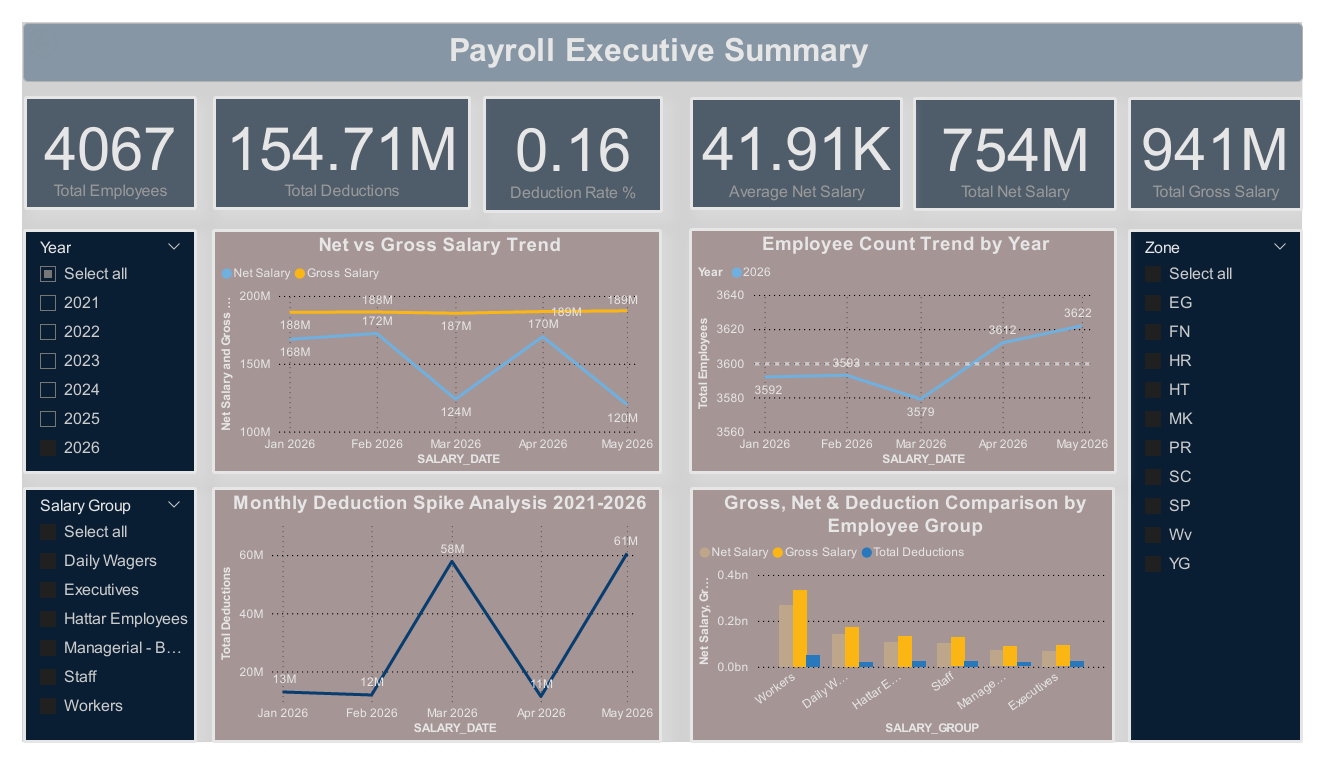

What the dashboard file says about the page in this screenshot:
{"tool":"powerbi","page":{"name":"Executive Summary","canvas":[1280,720],"ordinal":0},"visuals":[{"type":"card","fields":{"Values":["AI_PAYROLL_DATA.Total Net Salary"]},"box":[890,73.8,203.8,113.8],"z":0},{"type":"card","fields":{"Values":["AI_PAYROLL_DATA.Average Net Salary"]},"box":[666.9,74.1,212.7,112.5],"z":1000},{"type":"card","fields":{"Values":["AI_PAYROLL_DATA.Deduction Rate %"]},"box":[460,73.3,180,116.7],"z":2000},{"type":"lineChart","title":"Net vs Gross Salary Trend","fields":{"Category":["AI_PAYROLL_DATA.SALARY_DATE"],"Y":["Sum(AI_PAYROLL_DATA.NET_SALARY)","Sum(AI_PAYROLL_DATA.GROSS_SALARY)"]},"box":[189.4,205.8,450.1,245.6],"z":3000},{"type":"slicer","fields":{"Values":["DateTable.Year"]},"box":[0,205.8,174.3,245.6],"z":4000},{"type":"slicer","fields":{"Values":["AI_PAYROLL_DATA.SALARY_GROUP"]},"box":[0,463.8,174.3,256.6],"z":5000},{"type":"slicer","fields":{"Values":["AI_PAYROLL_DATA.ZONE"]},"box":[1105,206.2,175,513.8],"z":6000},{"type":"actionButton","box":[0,0,100,40],"z":7000},{"type":"clusteredColumnChart","title":"Gross, Net & Deduction Comparison by Employee Group","fields":{"Category":["AI_PAYROLL_DATA.SALARY_GROUP"],"Y":["AI_PAYROLL_DATA.Total Net Salary","AI_PAYROLL_DATA.Total Gross Salary","AI_PAYROLL_DATA.Total Deductions"]},"box":[666.9,463.8,425.4,256.6],"z":8000},{"type":"textbox","box":[0,0,1280.3,59],"z":9000},{"type":"card","fields":{"Values":["AI_PAYROLL_DATA.Total Gross Salary"]},"box":[1104.6,74.1,175.6,113.9],"z":10000},{"type":"card","fields":{"Values":["AI_PAYROLL_DATA.Total Employees"]},"box":[1.4,72.7,172.9,113.9],"z":11000},{"type":"card","fields":{"Values":["AI_PAYROLL_DATA.Total Deductions"]},"box":[190,73.3,258.3,113.3],"z":12000},{"type":"lineChart","title":"Monthly Deduction Spike Analysis 2021-2026","fields":{"Category":["AI_PAYROLL_DATA.SALARY_DATE"],"Y":["AI_PAYROLL_DATA.Total Deductions"]},"box":[189.4,463.8,450.1,256.6],"z":13000},{"type":"lineChart","title":"Employee Count Trend by Year","fields":{"Category":["AI_PAYROLL_DATA.SALARY_DATE"],"Y":["AI_PAYROLL_DATA.Total Employees"],"Series":["DateTable.Year"]},"box":[666.4,205.4,428,245.8],"z":14000}]}

Visuals, with their boxes in screenshot pixels (x1, y1, x2, y2), scaled from the page's 1280x720 canvas onto the 1326x766 screenshot:
card - AI_PAYROLL_DATA.Total Net Salary: (922, 79, 1133, 200)
card - AI_PAYROLL_DATA.Average Net Salary: (691, 79, 911, 199)
card - AI_PAYROLL_DATA.Deduction Rate %: (477, 78, 663, 202)
"Net vs Gross Salary Trend" lineChart: (196, 219, 662, 480)
slicer - DateTable.Year: (0, 219, 181, 480)
slicer - AI_PAYROLL_DATA.SALARY_GROUP: (0, 493, 181, 765)
slicer - AI_PAYROLL_DATA.ZONE: (1145, 219, 1325, 765)
actionButton: (0, 0, 104, 43)
"Gross, Net & Deduction Comparison by Employee Group" clusteredColumnChart: (691, 493, 1132, 765)
textbox: (0, 0, 1325, 63)
card - AI_PAYROLL_DATA.Total Gross Salary: (1144, 79, 1325, 200)
card - AI_PAYROLL_DATA.Total Employees: (1, 77, 181, 199)
card - AI_PAYROLL_DATA.Total Deductions: (197, 78, 464, 199)
"Monthly Deduction Spike Analysis 2021-2026" lineChart: (196, 493, 662, 765)
"Employee Count Trend by Year" lineChart: (690, 219, 1134, 480)
